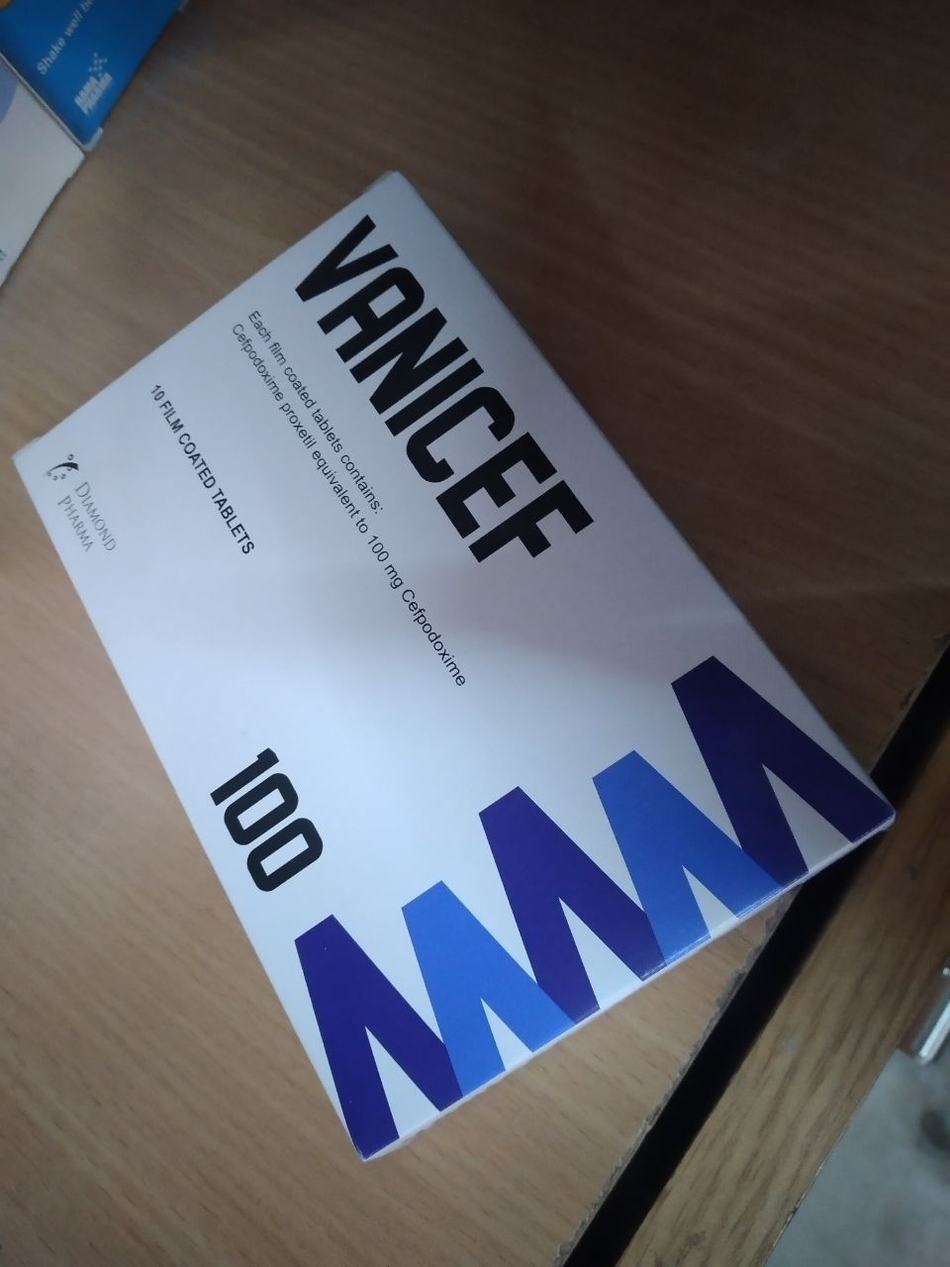Medicine: (10, 155, 904, 1175)
